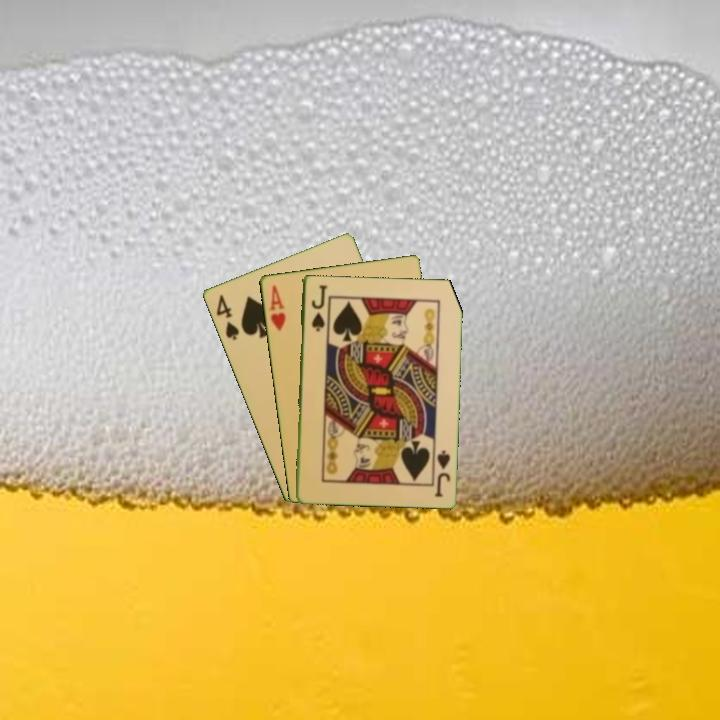4s: (212, 291, 242, 343)
Ah: (265, 281, 288, 334)
Js: (431, 447, 453, 499), (308, 281, 327, 334)
